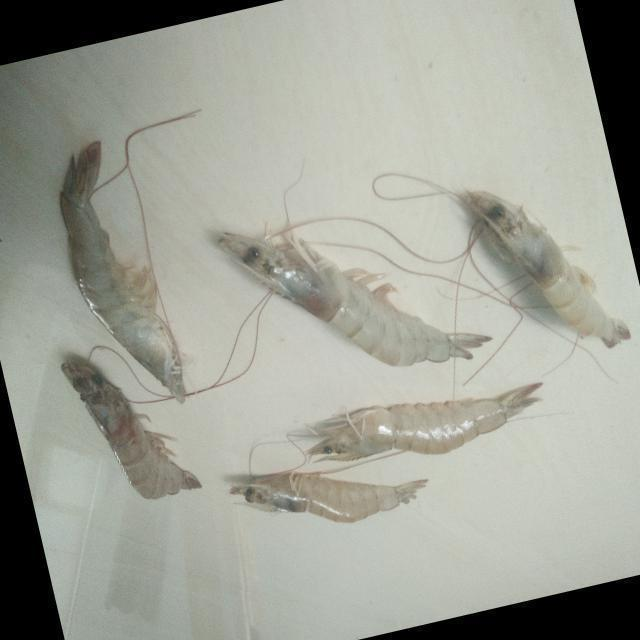shrimp: (219, 234, 489, 366), (60, 141, 185, 403), (468, 191, 632, 348), (61, 361, 201, 500), (309, 383, 543, 462), (231, 474, 428, 524)
